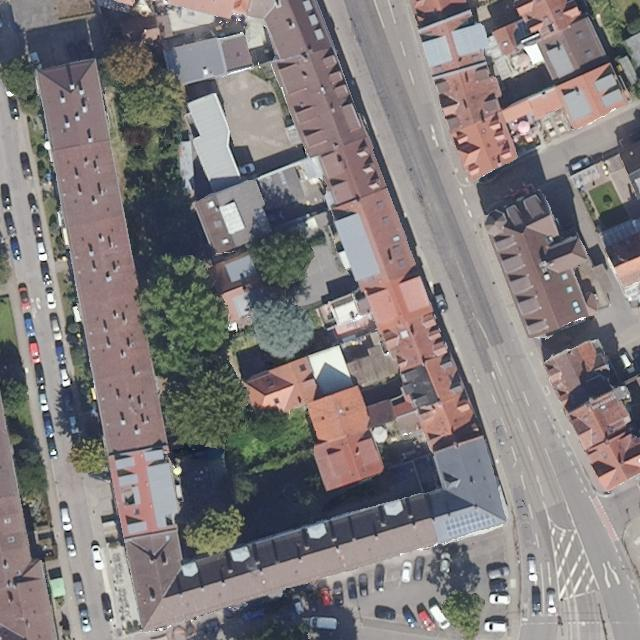PV: (442, 508, 503, 539)
